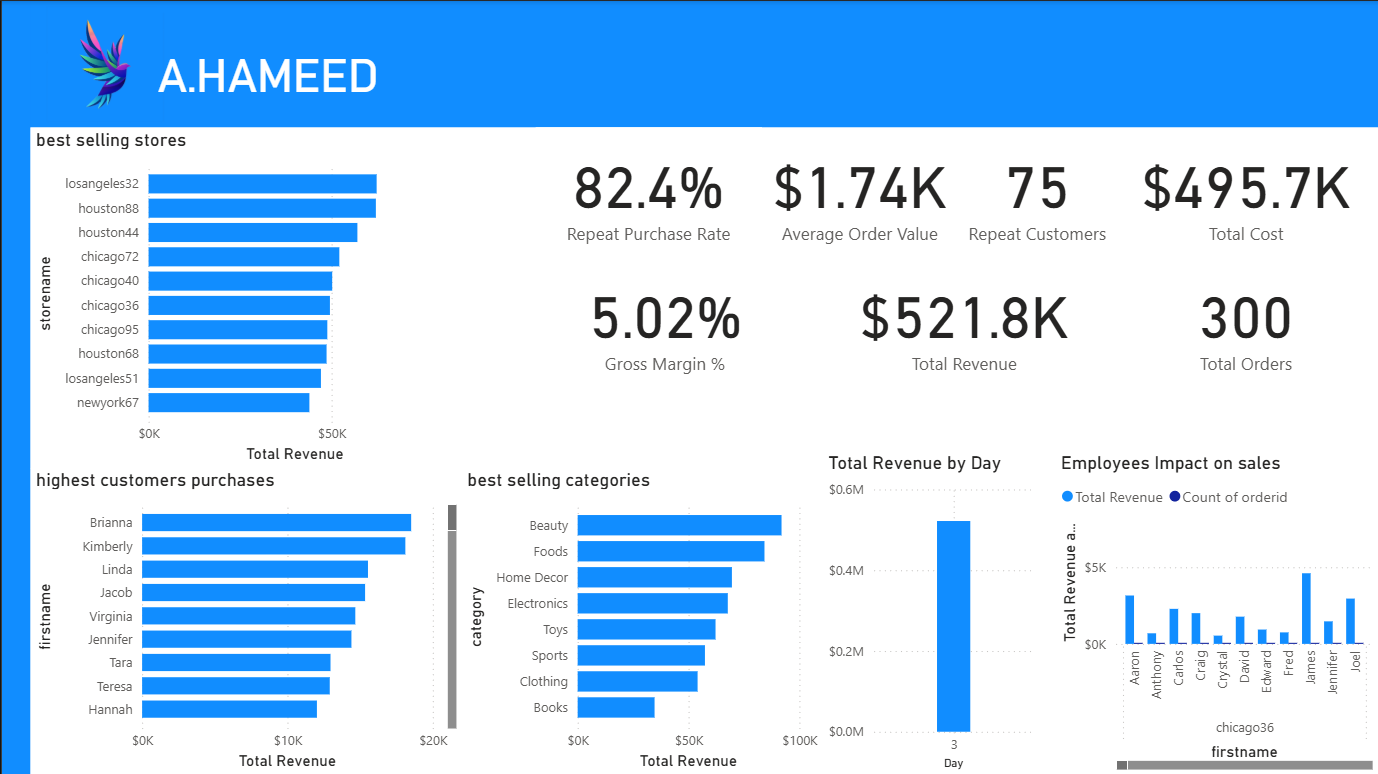

This screenshot's page, from the dashboard's own definition file:
{"tool":"powerbi","page":{"name":"Page 1","canvas":[1280,720],"ordinal":0},"visuals":[{"type":"card","fields":{"Values":["orders_clean.Average Order Value"]},"box":[704.7,118.6,187.2,118.6],"z":0},{"type":"card","fields":{"Values":["orders_clean.Repeat Customers"]},"box":[891.9,117.4,143,119.8],"z":1000},{"type":"card","fields":{"Values":["orders_clean.Total Cost"]},"box":[1034.9,117.4,245.3,119.8],"z":2000},{"type":"card","fields":{"Values":["orders_clean.Total Orders"]},"box":[1034.9,237.2,245.3,123.3],"z":3000},{"type":"card","fields":{"Values":["orders_clean.Total Revenue"]},"box":[755.8,237.2,279.1,123.3],"z":4000},{"type":"shape","box":[0,0,1280.2,117.4],"z":5000},{"type":"textbox","box":[139.5,39.5,217.4,62.8],"z":6000},{"type":"image","box":[0,0,191.9,117.4],"z":7000},{"type":"shape","box":[0,0,26.7,719.8],"z":8000},{"type":"card","fields":{"Values":["orders_clean.Gross Margin %"]},"box":[496.5,237.2,240.7,123.3],"z":9000},{"type":"clusteredColumnChart","fields":{"Category":["dates_clean.date.Variation.Date Hierarchy.Year","dates_clean.date.Variation.Date Hierarchy.Quarter","dates_clean.date.Variation.Date Hierarchy.Month","dates_clean.date.Variation.Date Hierarchy.Day"],"Y":["orders_clean.Total Revenue"]},"box":[764,419.8,200,300],"z":10000},{"type":"barChart","title":"best selling stores","fields":{"Category":["stores_clean.storename"],"Y":["orders_clean.Total Revenue"]},"box":[26.7,118.6,401.2,316.3],"z":11000},{"type":"barChart","title":"best selling categories","fields":{"Category":["products_clean.category"],"Y":["orders_clean.Total Revenue"]},"box":[427.9,434.9,336,284.9],"z":12000},{"type":"card","fields":{"Values":["orders_clean.Repeat Purchase Rate"]},"box":[496.5,117.4,210.5,119.8],"z":13000},{"type":"clusteredColumnChart","title":"Employees Impact on sales","fields":{"Category":["stores_clean.storename","employees_clean.firstname"],"Y":["orders_clean.Total Revenue","CountNonNull(orderitems_clean.orderid)"]},"box":[980.2,419.8,300,300],"z":14000},{"type":"clusteredBarChart","title":"highest customers purchases","fields":{"Category":["customers_clean.firstname"],"Y":["orders_clean.Total Revenue"]},"box":[26.7,434.9,401.2,284.9],"z":15000}]}

Visuals, with their boxes in screenshot pixels (x1, y1, x2, y2), scaled from the page's 1280x720 canvas onto the 1378x774 screenshot:
card - orders_clean.Average Order Value: (759,127,960,255)
card - orders_clean.Repeat Customers: (960,126,1114,255)
card - orders_clean.Total Cost: (1114,126,1377,255)
card - orders_clean.Total Orders: (1114,255,1377,388)
card - orders_clean.Total Revenue: (814,255,1114,388)
shape: (0,0,1377,126)
textbox: (150,42,384,110)
image: (0,0,207,126)
shape: (0,0,29,773)
card - orders_clean.Gross Margin %: (535,255,794,388)
clusteredColumnChart - dates_clean.date.Variation.Date Hierarchy.Year x dates_clean.date.Variation.Date Hierarchy.Quarter: (822,451,1038,773)
"best selling stores" barChart: (29,127,461,468)
"best selling categories" barChart: (461,468,822,773)
card - orders_clean.Repeat Purchase Rate: (535,126,761,255)
"Employees Impact on sales" clusteredColumnChart: (1055,451,1377,773)
"highest customers purchases" clusteredBarChart: (29,468,461,773)
